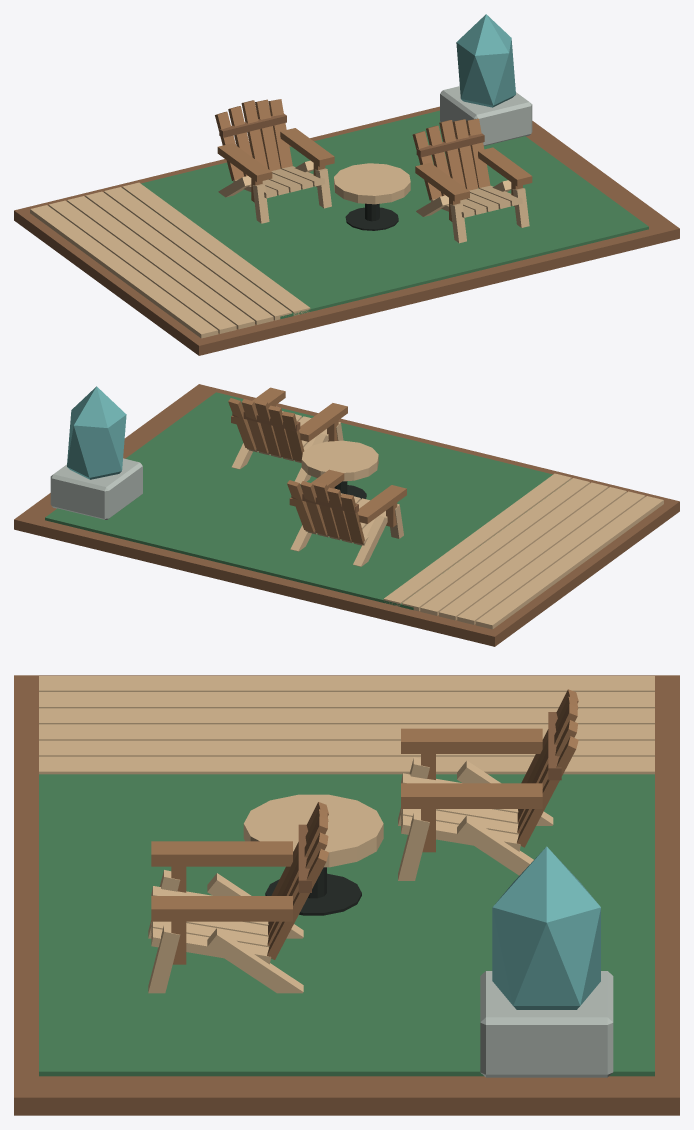
The model's file is gh_indoor_park_v01.glb.
3 views of the same model, one above another, from view 1: azimuth 30°, elevation 25°; view 2: azimuth 150°, elevation 25°; view 3: azimuth 270°, elevation 25° (orthographic). The views are drawn at different scales.
Visible parts, largest first — view 1: Indoor park turf and Adirondack seating; view 2: Indoor park turf and Adirondack seating; view 3: Indoor park turf and Adirondack seating.
Boxes of the visible parts, x1,y1,x2,y2 form: Indoor park turf and Adirondack seating: (14,14,679,355); Indoor park turf and Adirondack seating: (14,384,679,646); Indoor park turf and Adirondack seating: (14,675,679,1115).
Bounding box in the file's own units: 6 × 1.52 × 4.
Materials: 1 (1 with a texture image).
